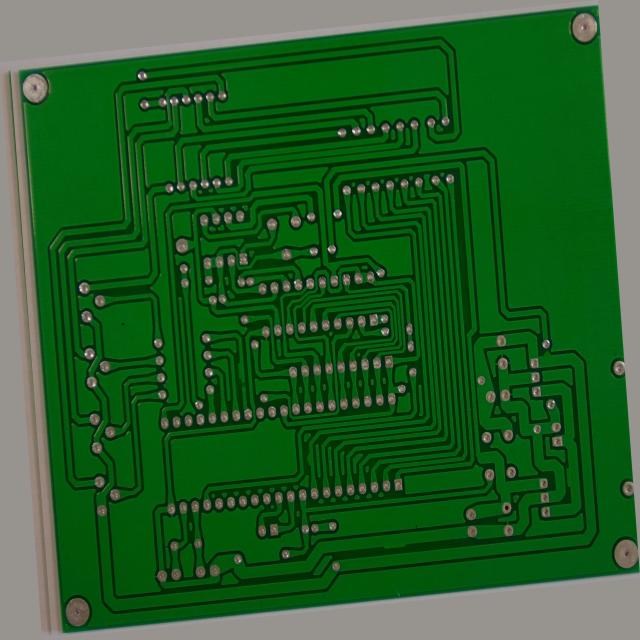spur: (366, 566, 397, 584), (565, 507, 579, 537), (290, 462, 303, 482), (551, 376, 567, 392), (227, 352, 235, 381)
